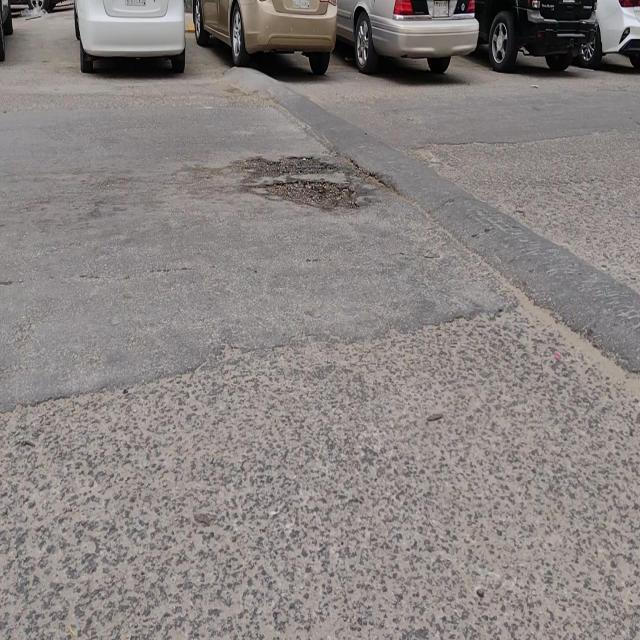Potholes: (253, 153, 355, 211)
